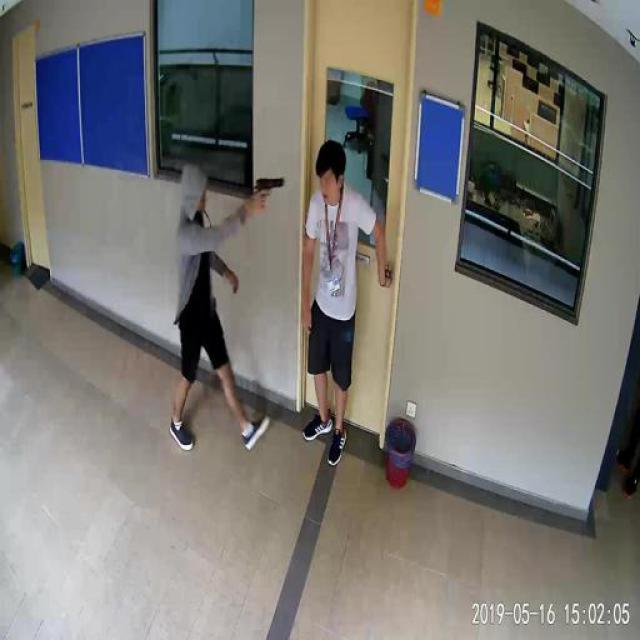weapon: (254, 177, 286, 196)
